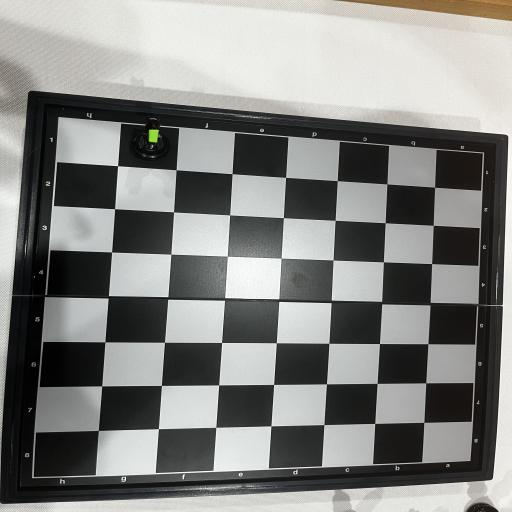Black knight: (130, 118, 170, 160)
